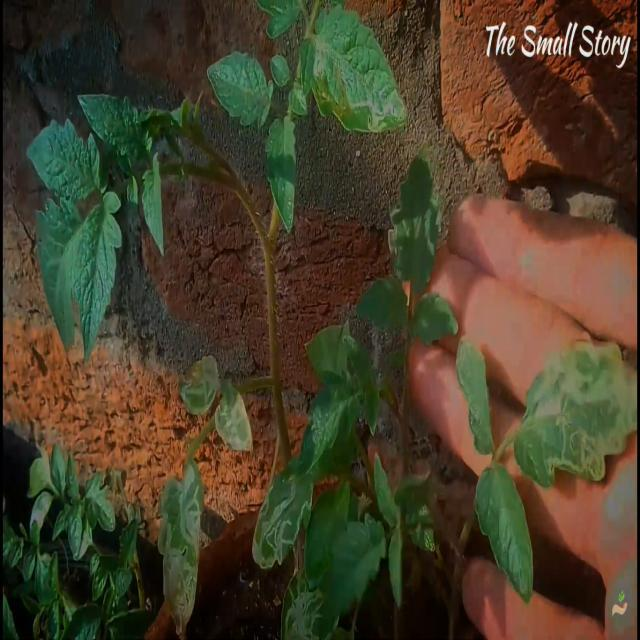Tomato healthy leaf: (474, 460, 535, 604), (71, 191, 122, 362), (32, 193, 82, 354), (321, 512, 388, 626), (296, 368, 358, 479), (25, 114, 101, 204), (74, 90, 154, 169), (205, 45, 274, 134), (264, 115, 298, 238), (354, 274, 408, 334), (412, 294, 459, 350), (142, 151, 164, 264)
Tomato target spot leaf: (512, 334, 638, 486), (297, 0, 409, 139), (156, 456, 206, 640), (386, 136, 442, 294), (252, 456, 316, 573), (212, 381, 258, 452), (176, 350, 220, 417)
